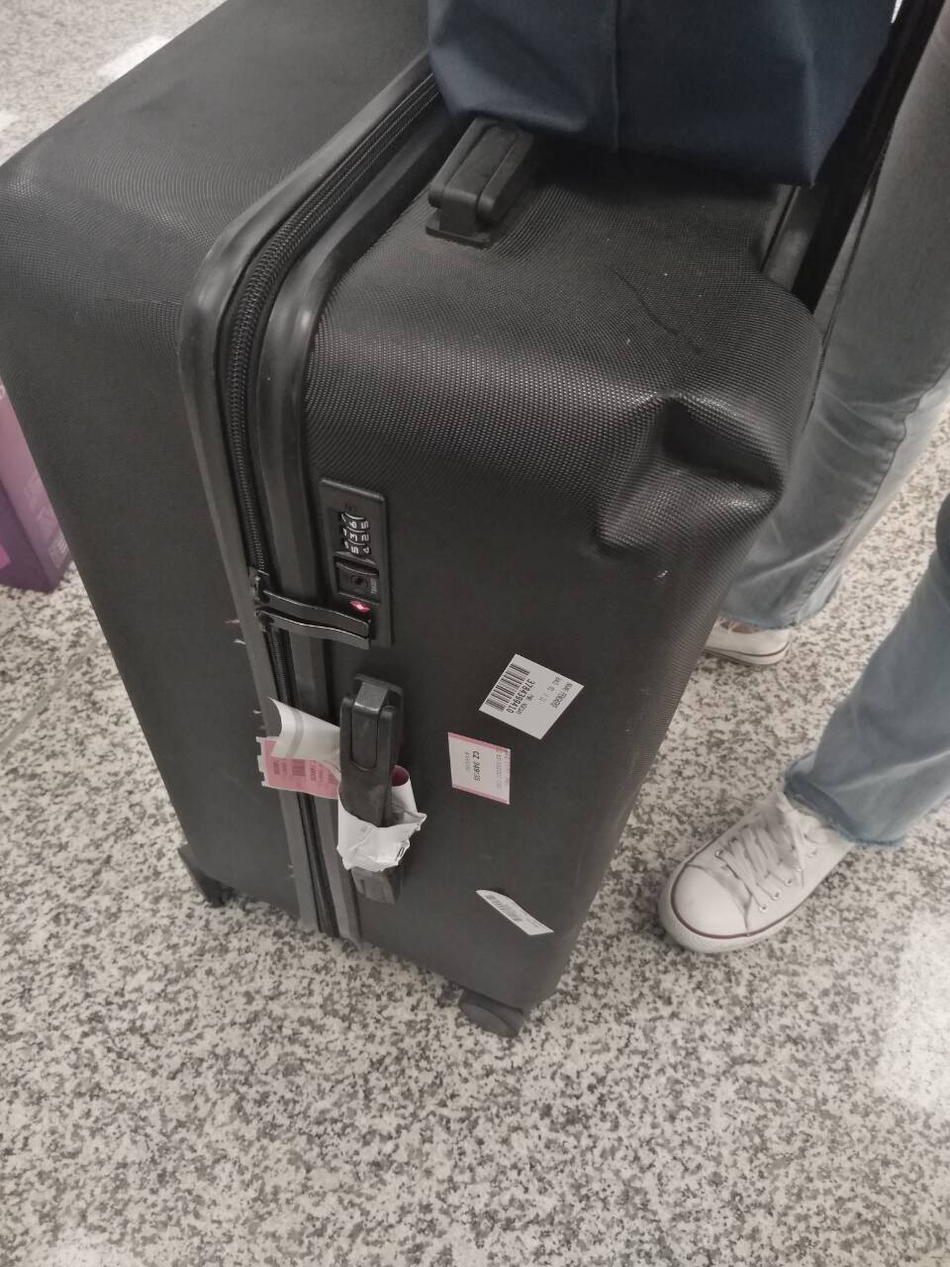rupture: (585, 388, 786, 557)
